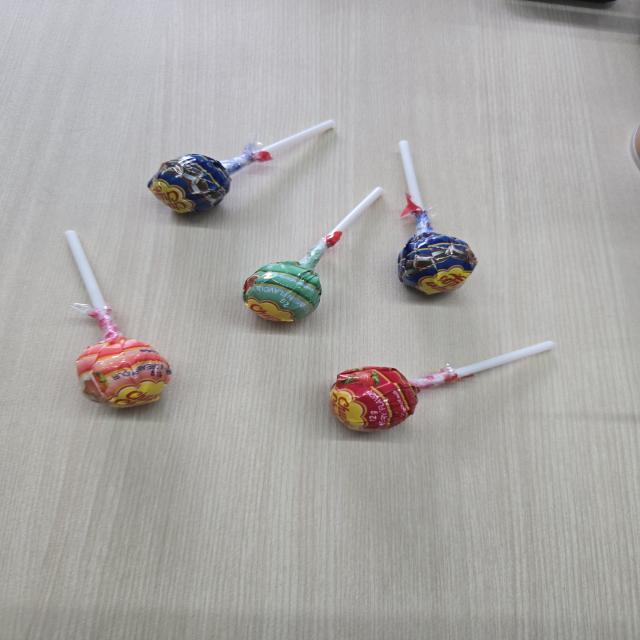lollipop: (326, 339, 560, 440), (64, 224, 178, 415), (240, 185, 384, 331), (146, 114, 337, 220), (393, 138, 481, 299)
